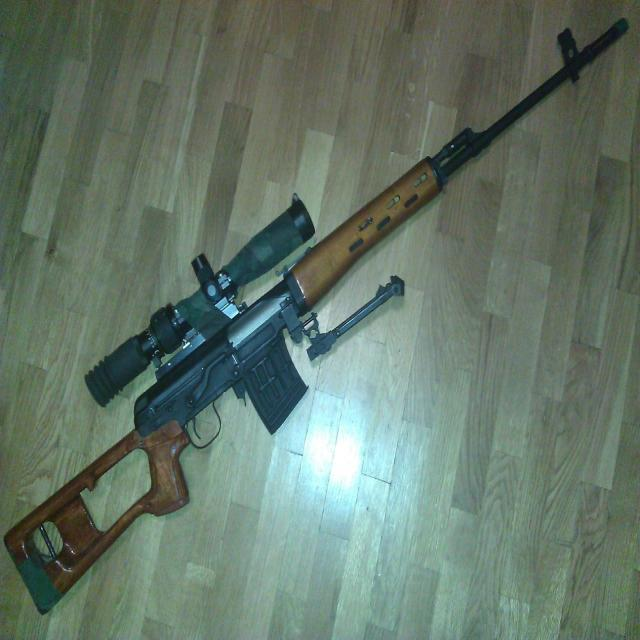firearm: (4, 17, 630, 614)
